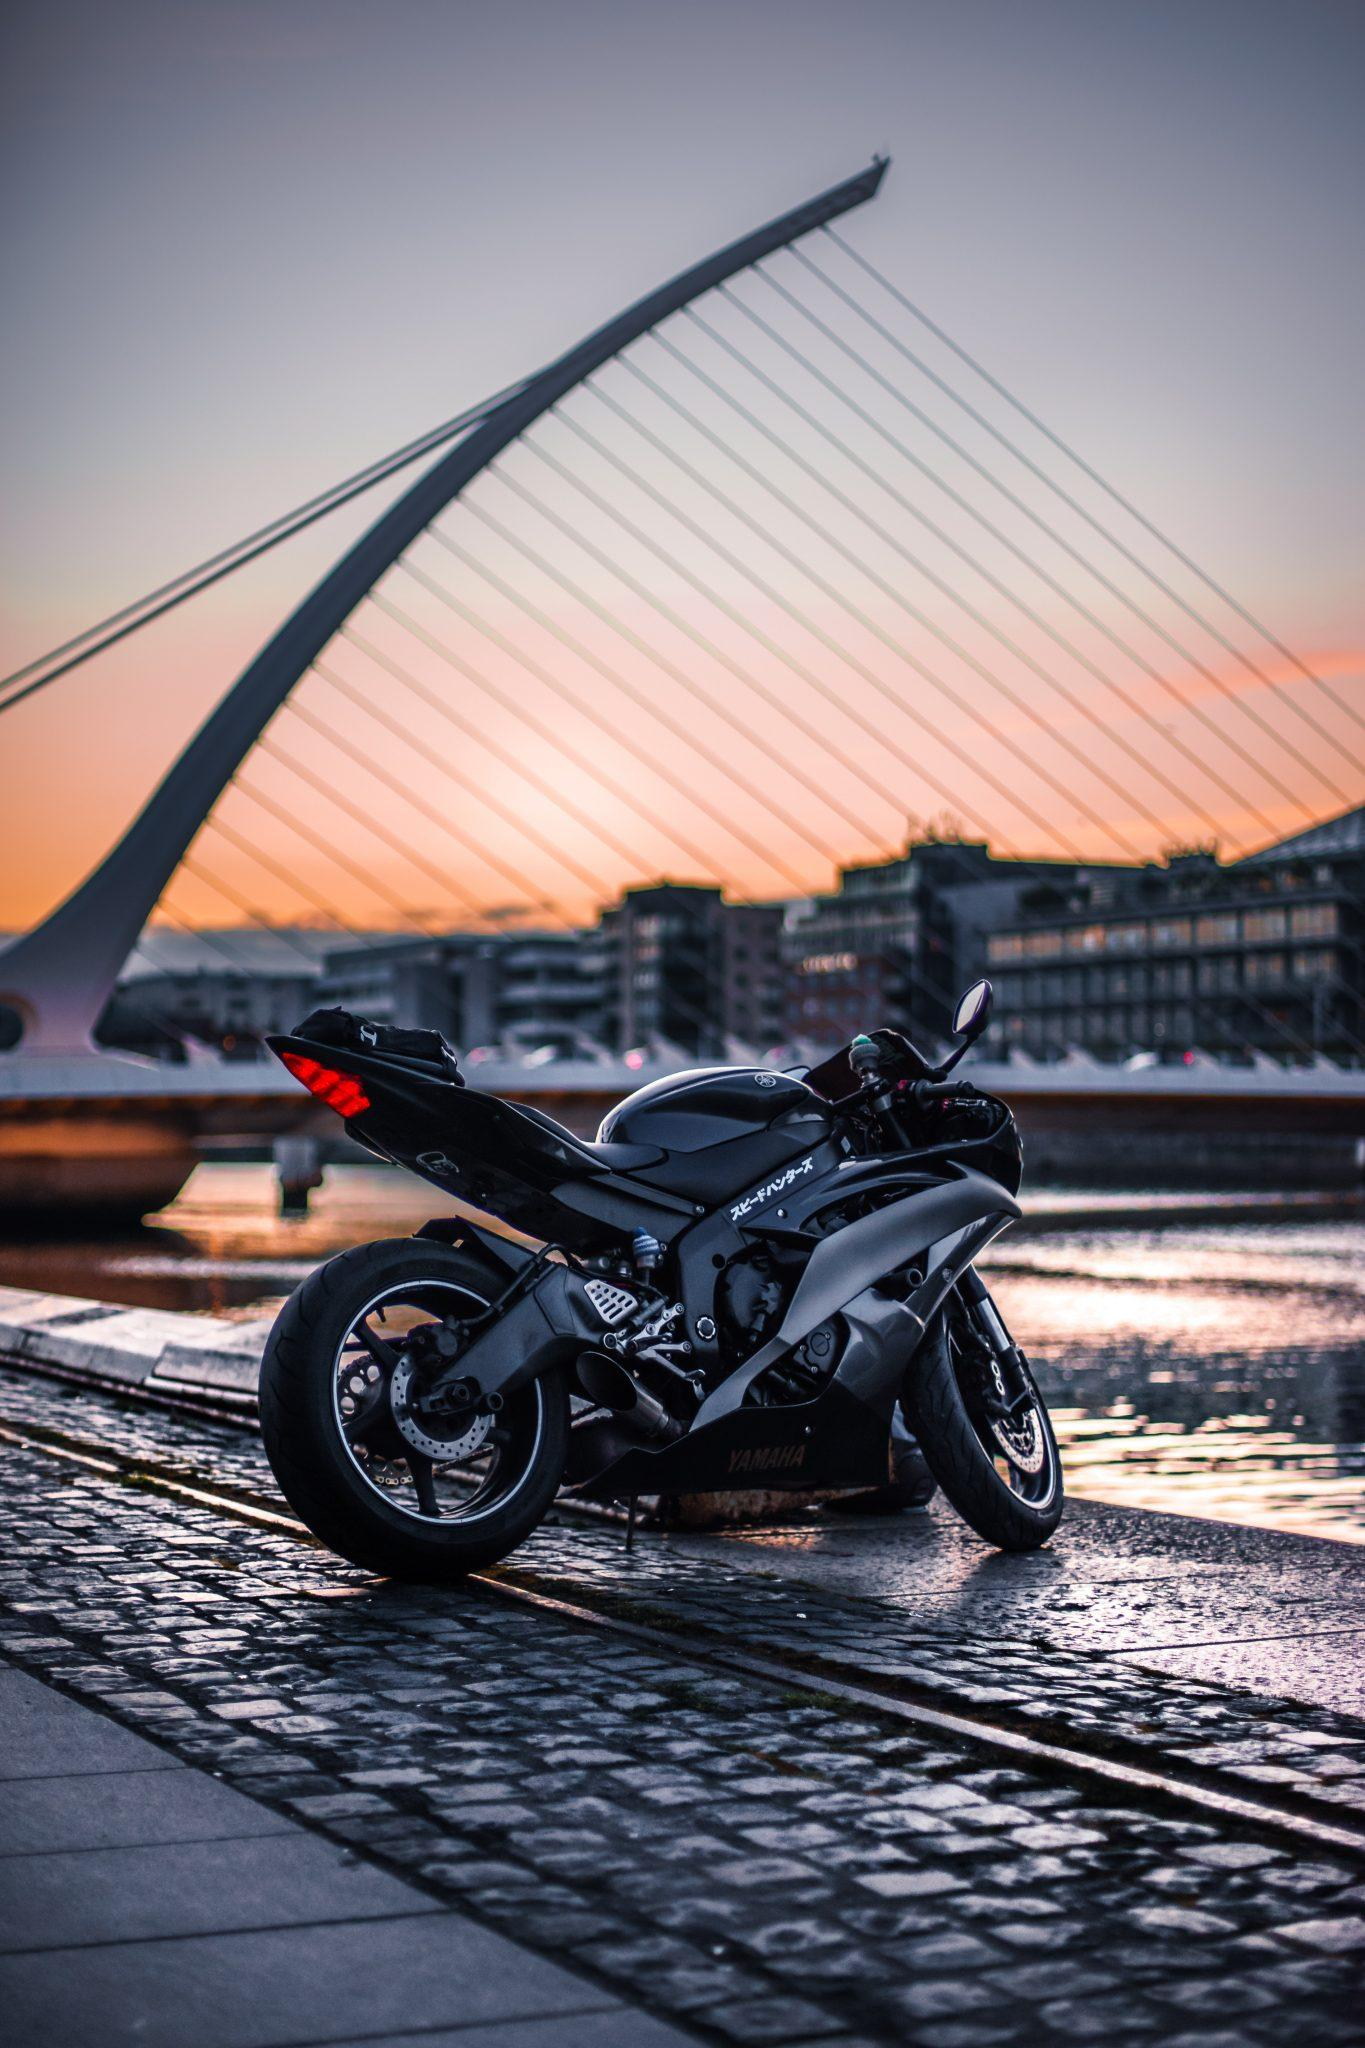Motorcycle: (220, 943, 1157, 1657)
